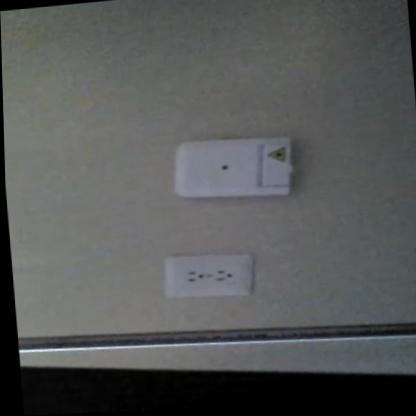OUTLET: (162, 249, 253, 303)
